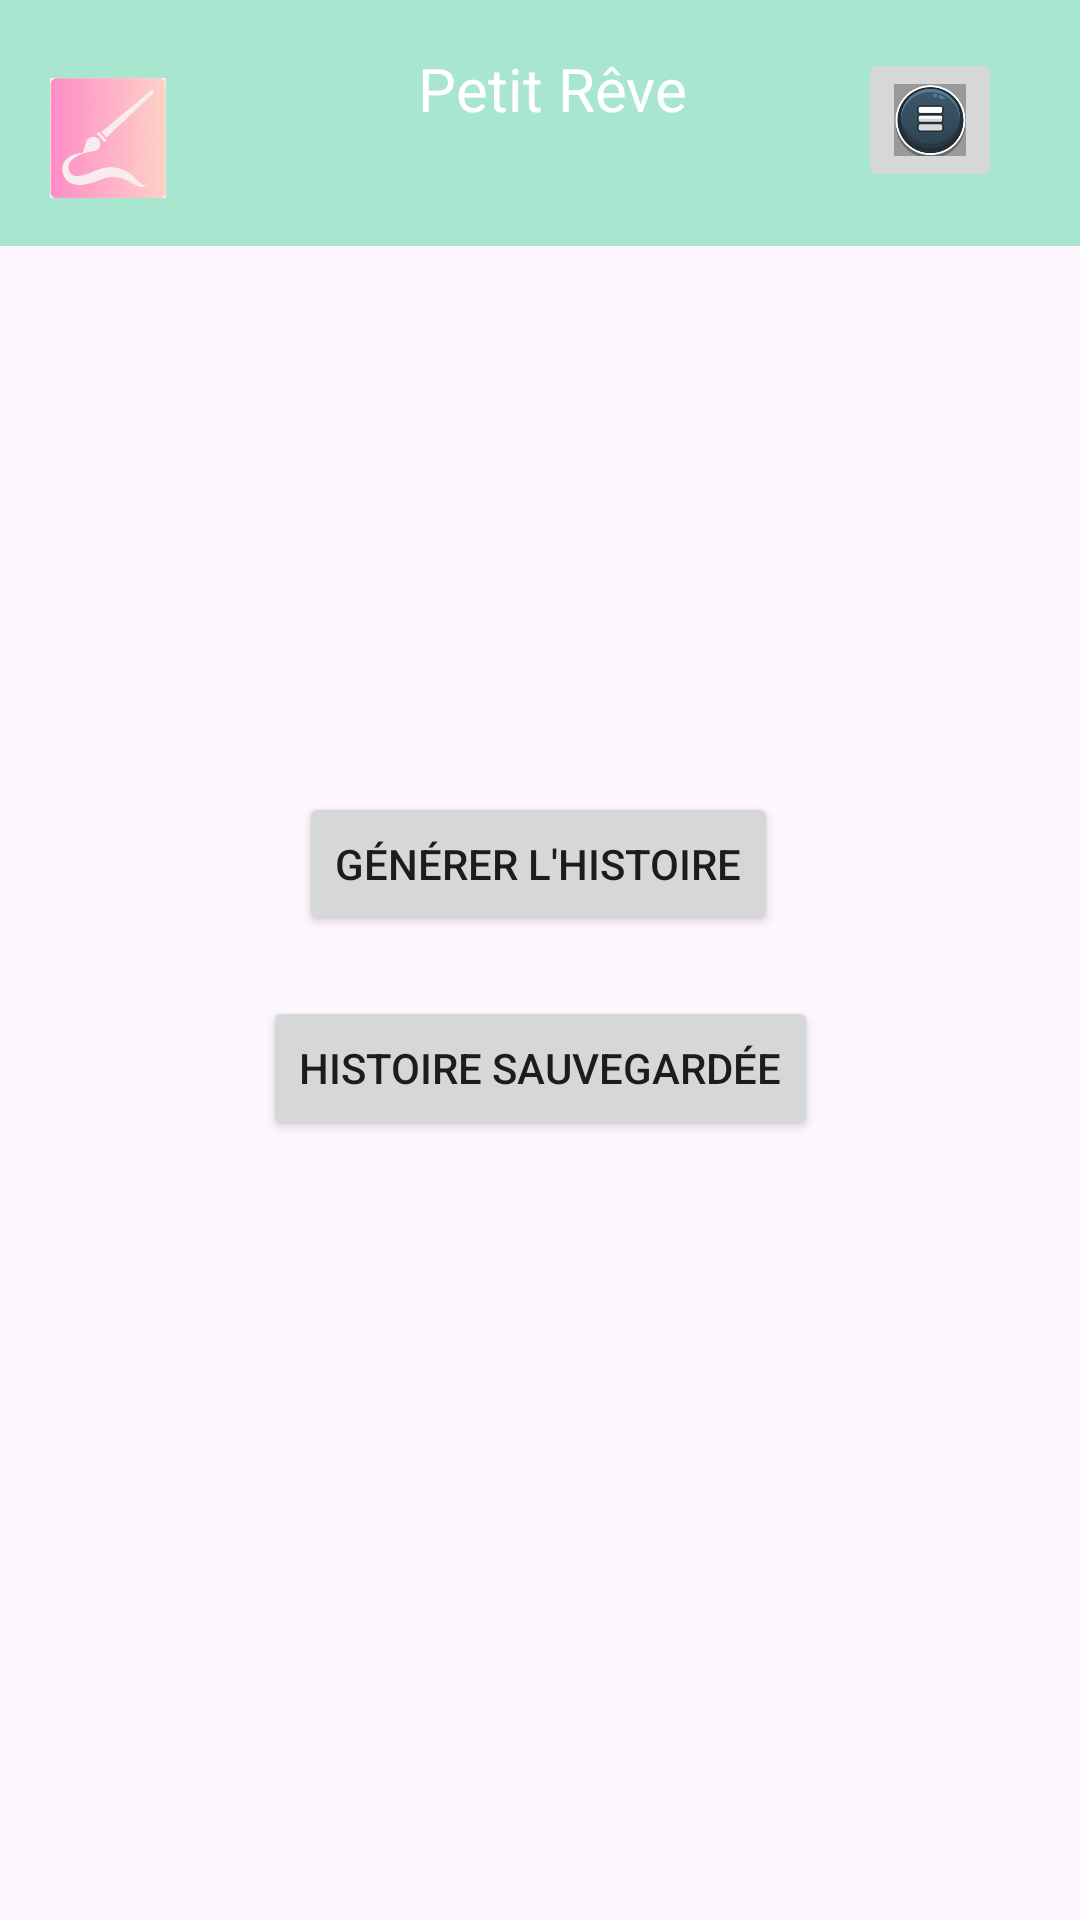

Where icons sit on this 1080px×1920px app screen, as (x1, y1, x2, y2):
Menu Button: (870, 66, 990, 174)
